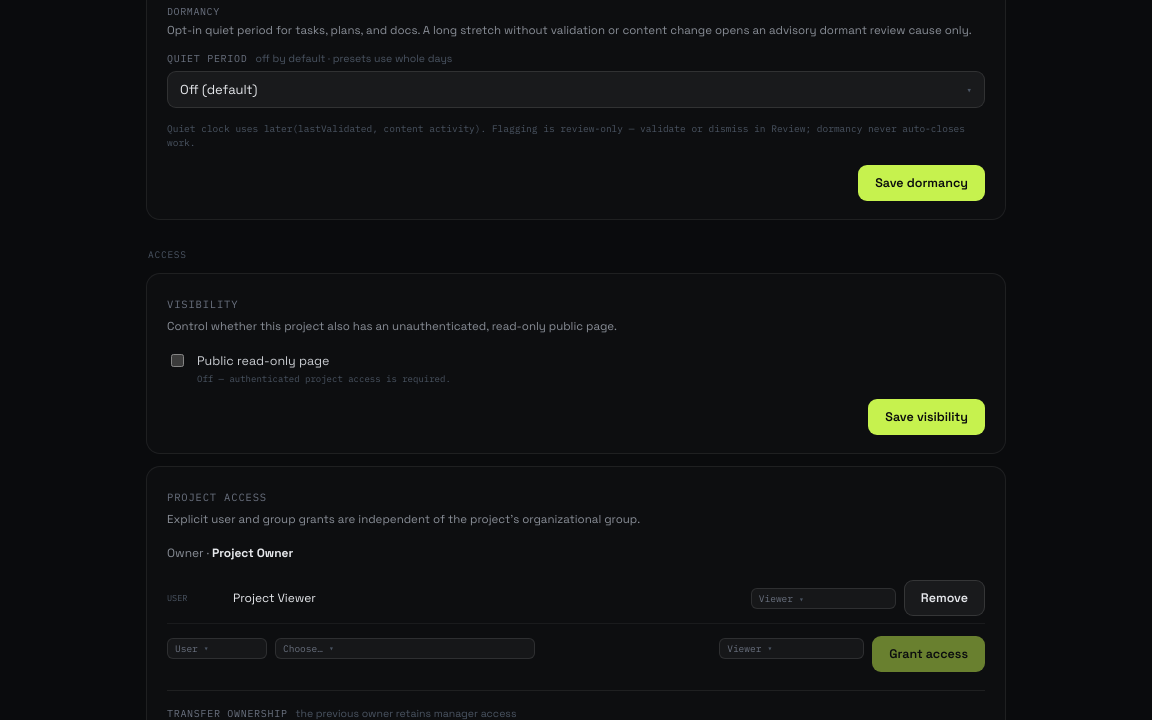
Test: ProjectSettingsView (PLNR-401) › keeps the owner-only visibility mutation in its own section
(page scrolled)
Click the checkbox named "Public read-only page": click(178, 360) x1=171 y1=354 x2=184 y2=367
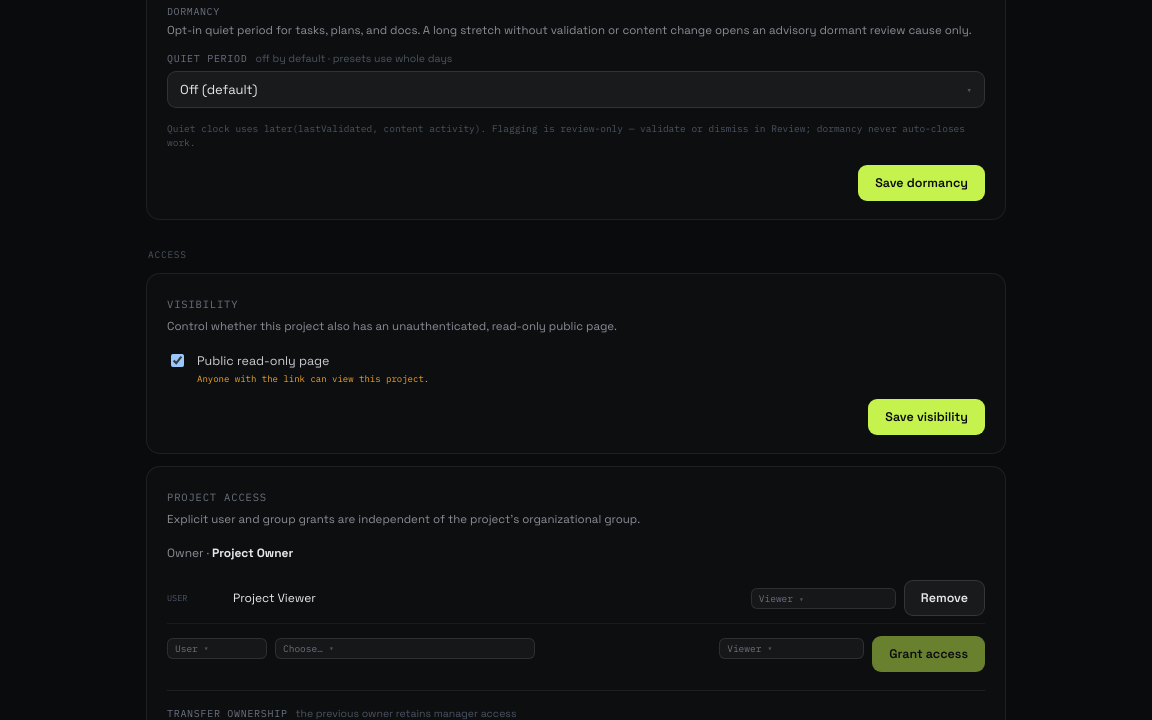
Click the button "Save visibility": click(927, 417) x1=868 y1=399 x2=985 y2=435
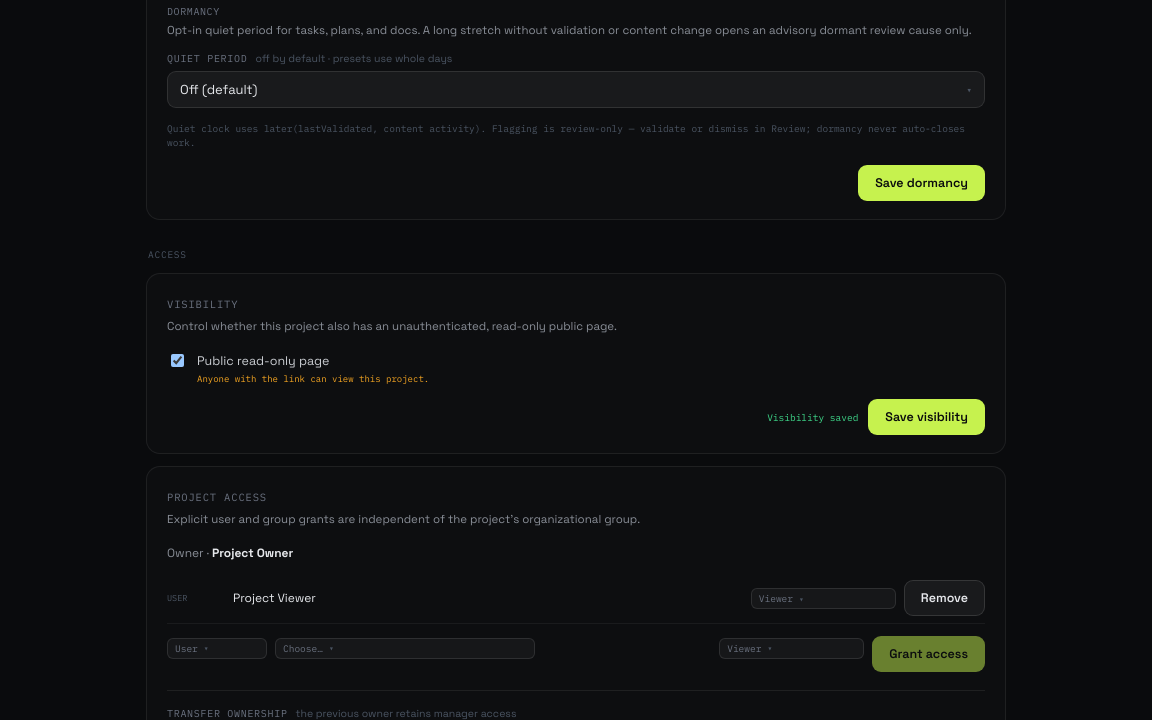
Now the text "Visibility saved" is shown, box x1=767 y1=411 x2=858 y2=424
